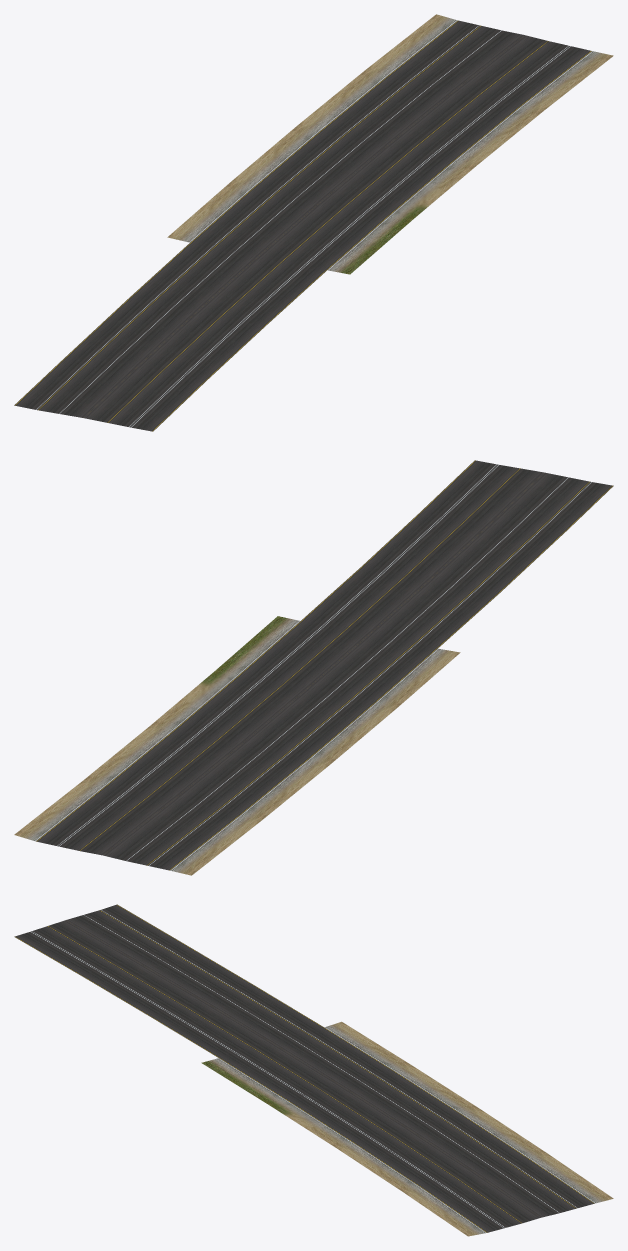
File: vegaswedge16.obj
The picture shows the model from 3 angles, top to bottom: view 1: azimuth 30°, elevation 25°; view 2: azimuth 210°, elevation 25°; view 3: azimuth 270°, elevation 25°; orthographic projection. The views are drawn at different scales.
Parts seen in each view (by area): view 1: vegasWedge16; view 2: vegasWedge16; view 3: vegasWedge16.
Part boxes in pixels (x1,y1,x2,y2): vegasWedge16: (14, 14, 613, 431); vegasWedge16: (14, 460, 613, 875); vegasWedge16: (14, 904, 613, 1236).
Bounding box in the file's own units: 184 × 0.2799 × 141.
Materials: 5 (5 with a texture image).
